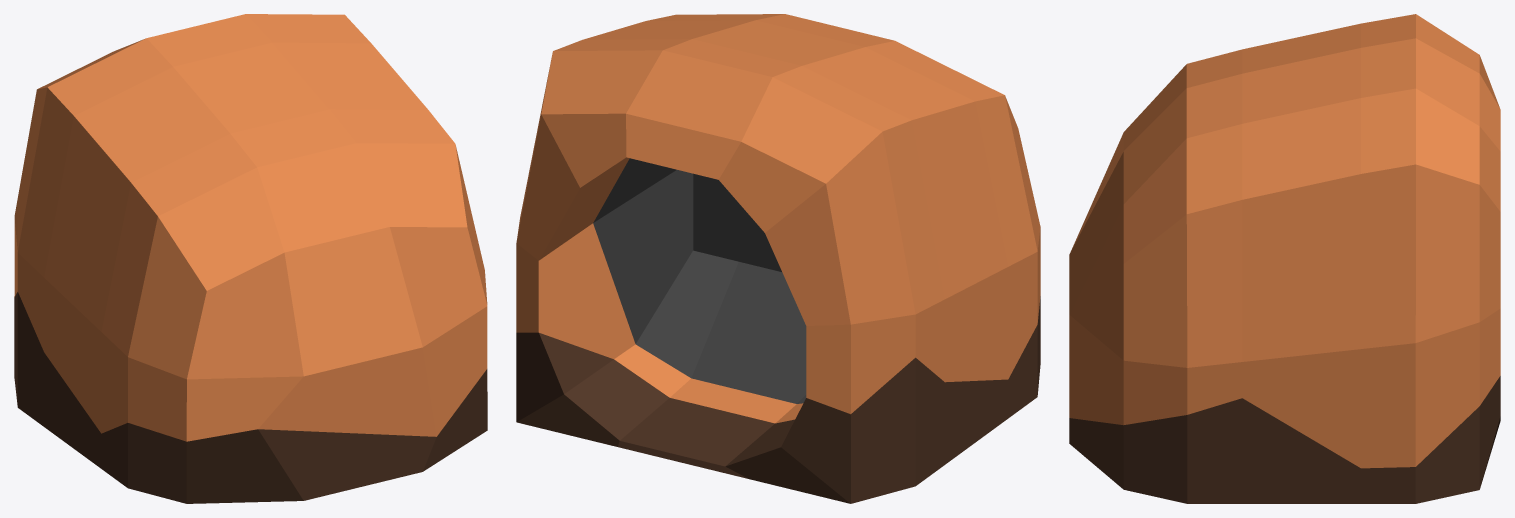
File: Burrow.fbx
3 renders of one model, left to right at view 1: azimuth 30°, elevation 25°; view 2: azimuth 150°, elevation 25°; view 3: azimuth 270°, elevation 25°, orthographic. The views are drawn at different scales.
Visible parts, largest first — view 1: Burrow; view 2: Burrow; view 3: Burrow.
Boxes of the visible parts, box(x1,y1,x2,y2) form: Burrow: box(14, 14, 487, 503); Burrow: box(516, 14, 1040, 503); Burrow: box(1069, 14, 1500, 503).
Size of the model in its own units: 120 by 109 by 121.
